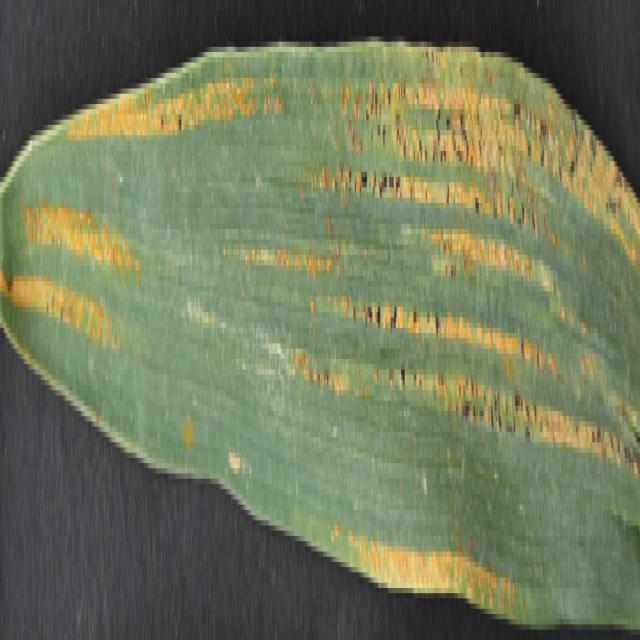leaf rust: (288, 5, 640, 609), (1, 57, 261, 380)
